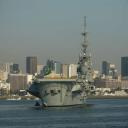Portanaves: (27, 14, 97, 109)
